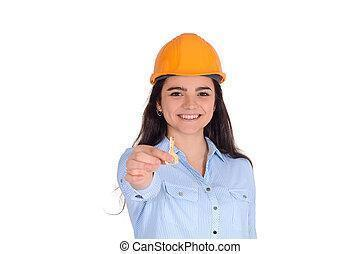helmet: (149, 33, 227, 84)
